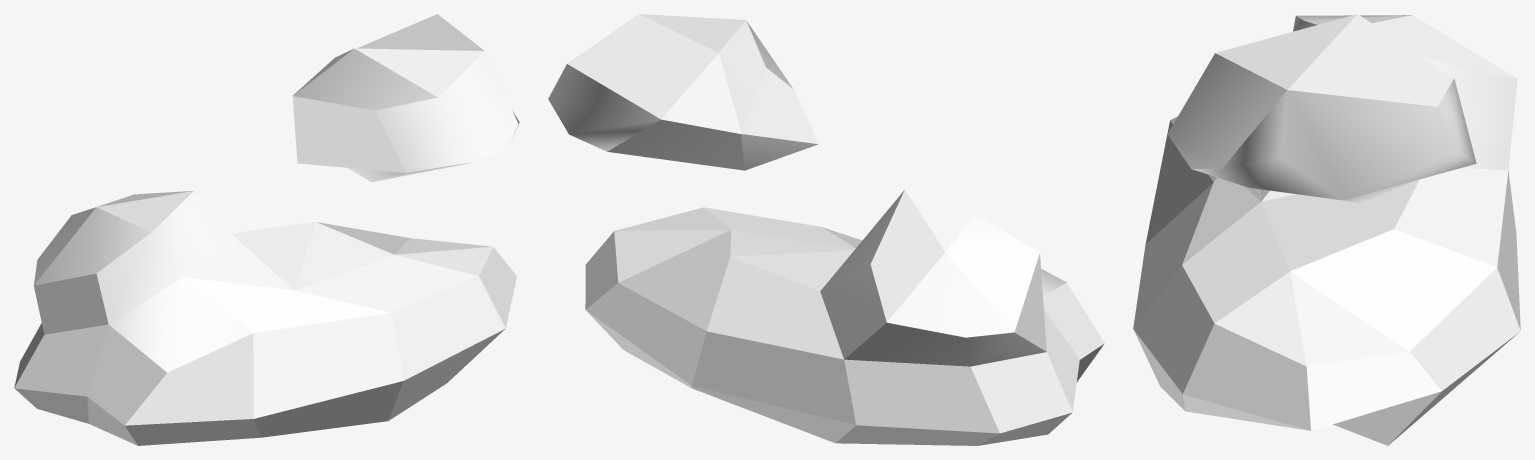
Rendered from CloudFBX.fbx.
3 views of the same model, side by side, from view 1: azimuth 30°, elevation 25°; view 2: azimuth 150°, elevation 25°; view 3: azimuth 270°, elevation 25° (orthographic). The views are drawn at different scales.
Visible parts, largest first — view 1: Mesh; view 2: Mesh; view 3: Mesh.
Boxes of the visible parts, x1,y1,x2,y2 form: Mesh: (14,14,519,445); Mesh: (548,14,1104,445); Mesh: (1133,14,1520,445).
Bounding box in the file's own units: 10.95 × 6.65 × 5.85.
1 material, 1 textured.
